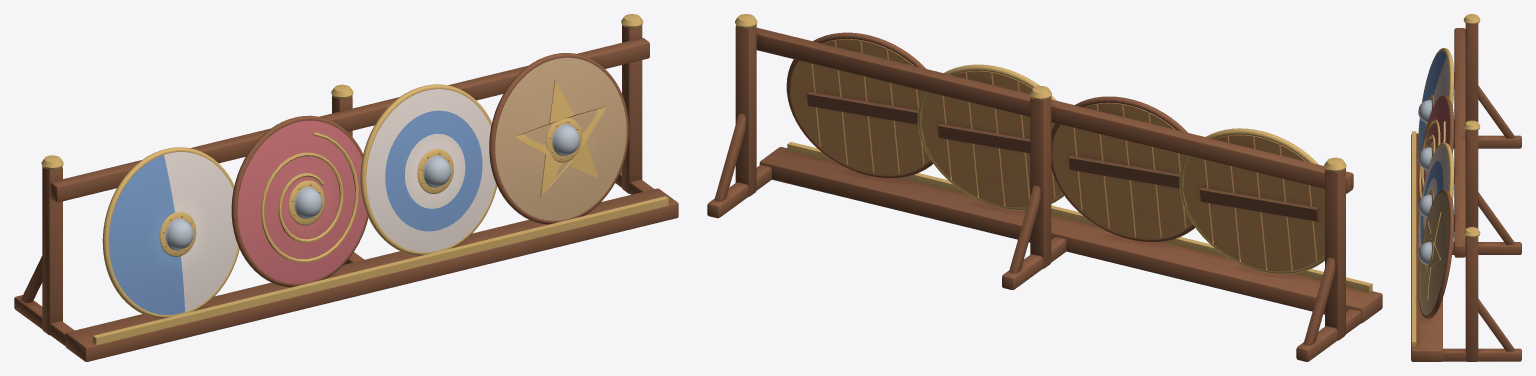
Rendered from shield-wall.glb.
3 views of the same model, side by side, from view 1: azimuth 30°, elevation 25°; view 2: azimuth 150°, elevation 25°; view 3: azimuth 270°, elevation 25° (orthographic). The views are drawn at different scales.
Visible parts, largest first — view 1: shield-wall_body; view 2: shield-wall_body; view 3: shield-wall_body.
Boxes of the visible parts, <box> form: shield-wall_body: <box>14,14,678,361</box>; shield-wall_body: <box>707,14,1382,361</box>; shield-wall_body: <box>1411,14,1521,361</box>.
Size of the model in its own units: 3.35 by 0.932 by 0.7113.
Materials: 1 (1 with a texture image).
